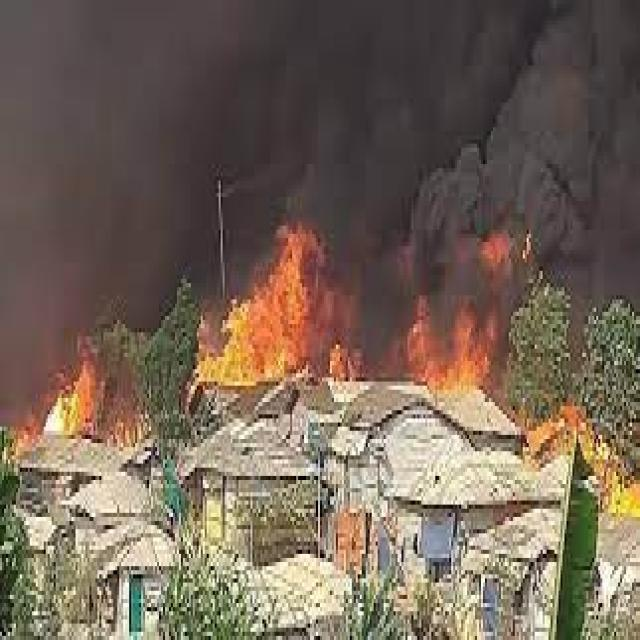Fire: (211, 246, 346, 416), (400, 270, 504, 403), (28, 343, 119, 431)
Smoke: (7, 13, 640, 295)
